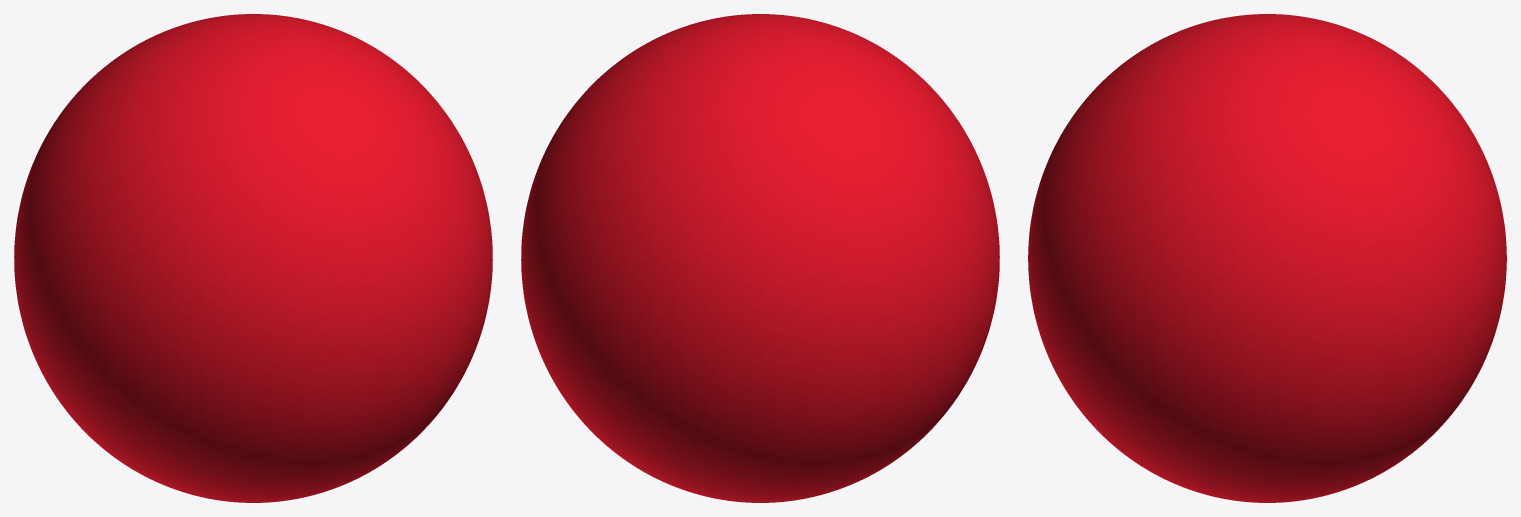
Rendered from bullet.fbx.
3 renders of one model, left to right at view 1: azimuth 30°, elevation 25°; view 2: azimuth 150°, elevation 25°; view 3: azimuth 270°, elevation 25°, orthographic.
Visible parts, largest first — view 1: Sphere.002; view 2: Sphere.002; view 3: Sphere.002.
Part boxes in pixels (x1,y1,x2,y2): Sphere.002: (14, 14, 492, 502); Sphere.002: (521, 14, 999, 502); Sphere.002: (1028, 14, 1506, 502).
Size of the model in its own units: 33.89 by 34.85 by 33.89.
